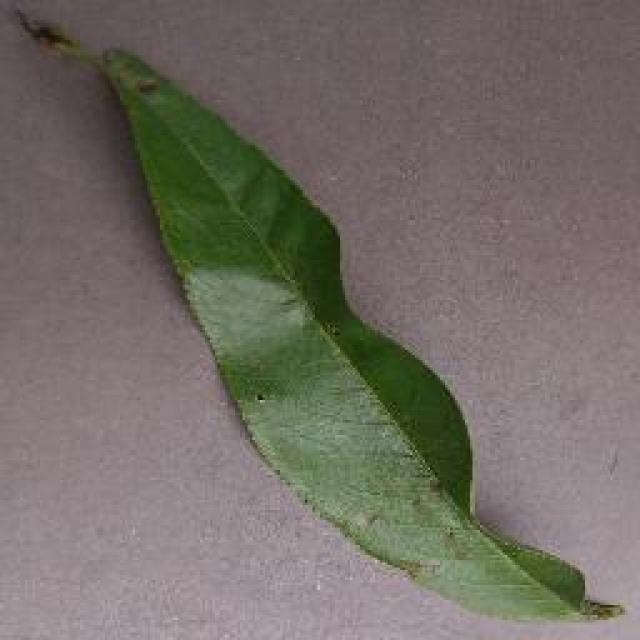Peach_Bacterial_Spot: (52, 13, 206, 150)
